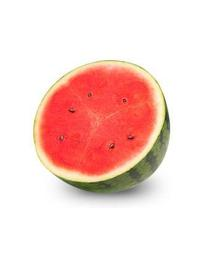watermelon: (32, 60, 171, 197)
